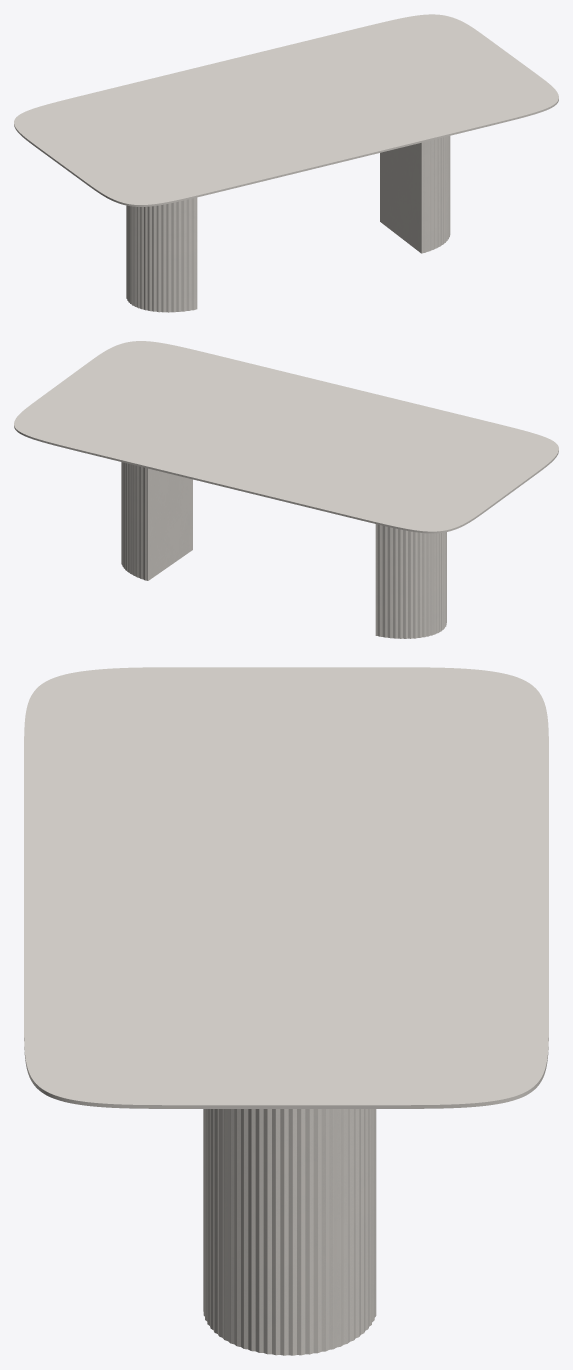
File: purewhite_softrecta_facet_flute.glb
3 views of the same model, one above another, from view 1: azimuth 30°, elevation 25°; view 2: azimuth 150°, elevation 25°; view 3: azimuth 270°, elevation 25° (orthographic). The views are drawn at different scales.
Visible parts, largest first — view 1: facet_softrecta, flute; view 2: facet_softrecta, flute; view 3: facet_softrecta, flute.
Boxes of the visible parts, x1,y1,x2,y2 form: facet_softrecta: (14, 14, 558, 206); flute: (126, 136, 450, 312); facet_softrecta: (14, 341, 558, 533); flute: (121, 462, 446, 638); facet_softrecta: (24, 667, 548, 1108); flute: (203, 1109, 376, 1355).
Size of the model in its own units: 7.5 by 2.5 by 3.8.
1 material, 1 textured.
